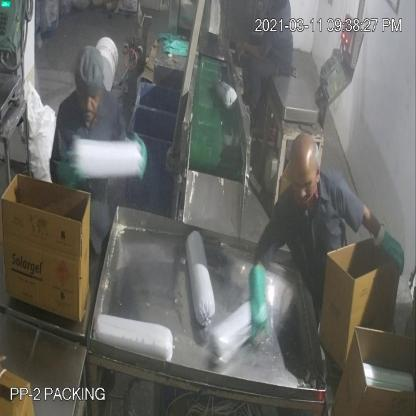glove: (369, 212, 410, 280), (245, 263, 274, 344)
